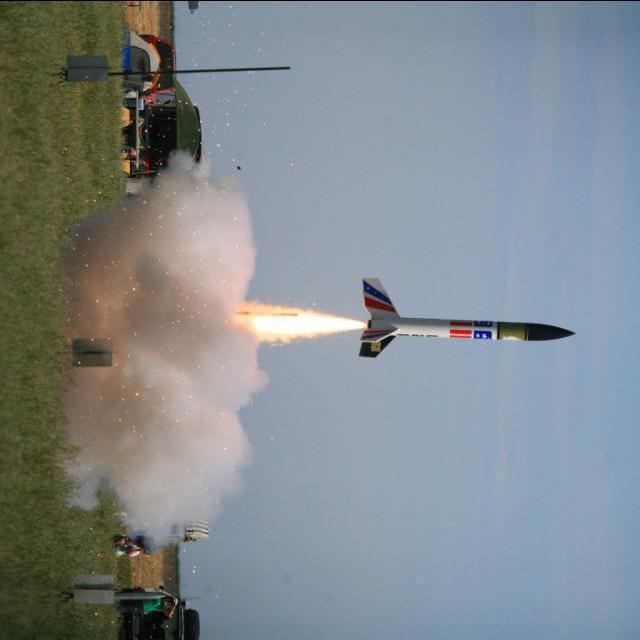missile: (337, 274, 582, 364)
